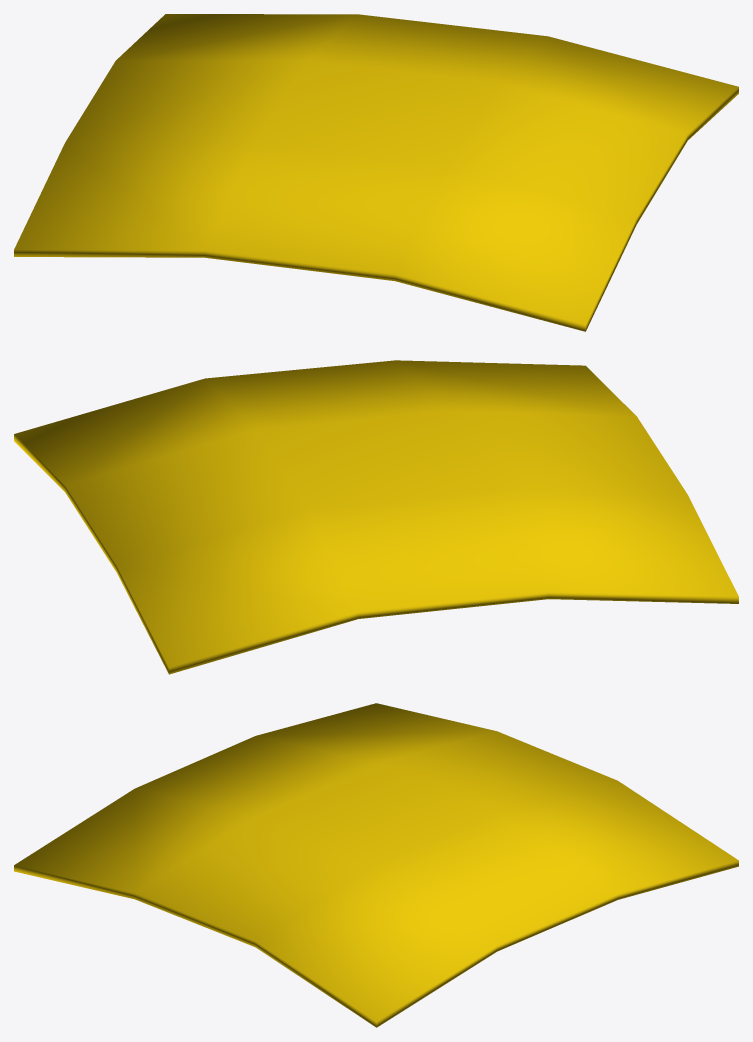
File: burger_cheese.fbx
3 renders of one model, top to bottom at view 1: azimuth 30°, elevation 25°; view 2: azimuth 150°, elevation 25°; view 3: azimuth 270°, elevation 25°, orthographic. The views are drawn at different scales.
Visible parts, largest first — view 1: cheese1; view 2: cheese1; view 3: cheese1.
Part boxes in pixels (x1,y1,x2,y2): cheese1: (14,14,738,331); cheese1: (14,360,738,674); cheese1: (14,703,738,1027).
Bounding box in the file's own units: 329 × 30.6 × 329.
1 material, 1 textured.
